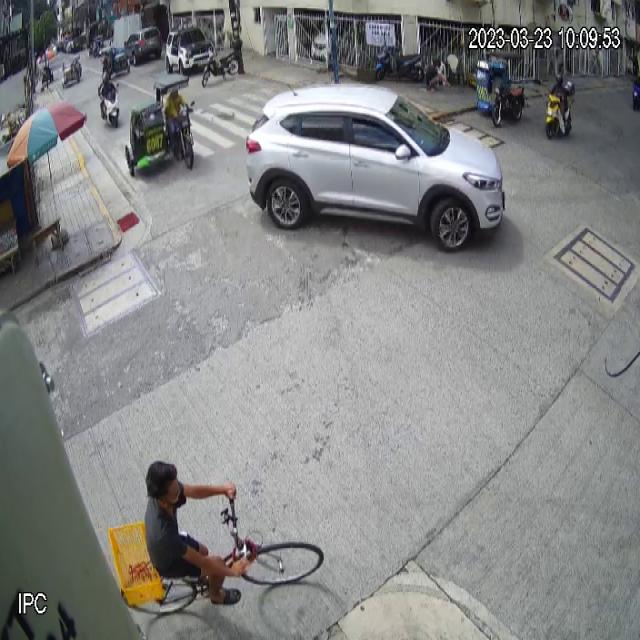Car: (246, 82, 507, 255)
Motorcycle: (375, 42, 424, 84), (543, 90, 572, 140)
Tricycle: (123, 72, 197, 179), (476, 51, 527, 128)
